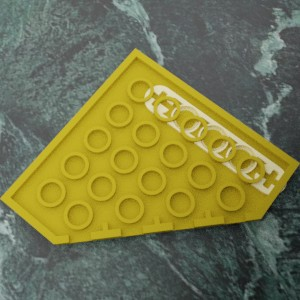lego: (0, 48, 299, 245), (144, 85, 286, 198)
